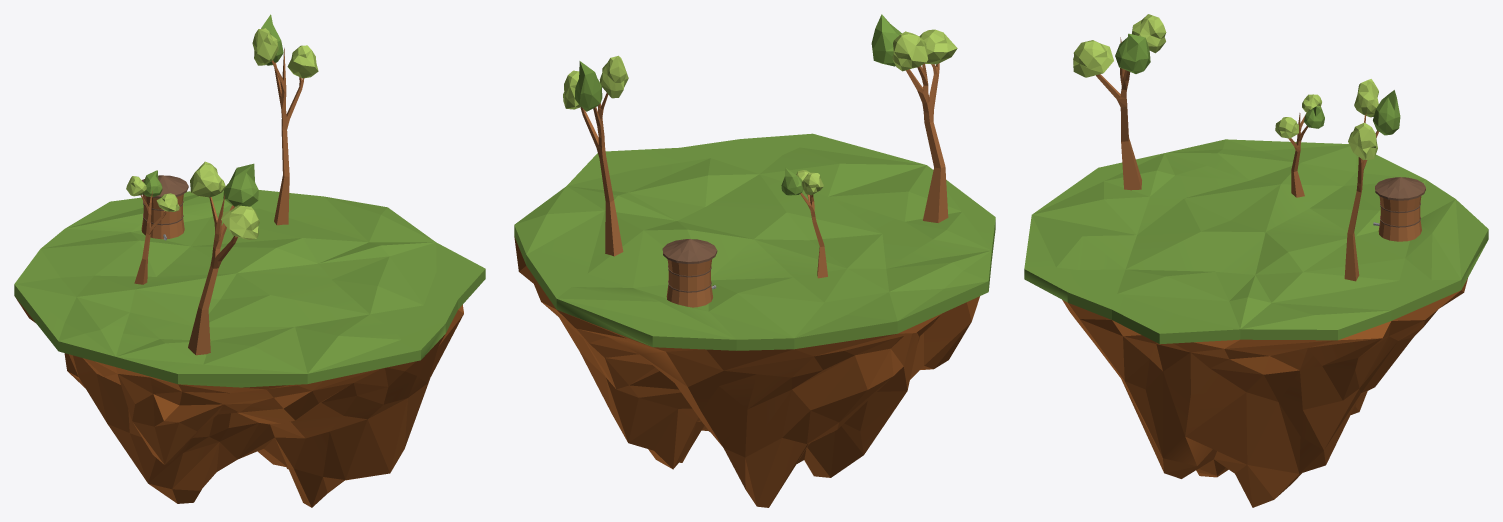
Rendered from Island.glb.
3 renders of one model, left to right at view 1: azimuth 30°, elevation 25°; view 2: azimuth 150°, elevation 25°; view 3: azimuth 270°, elevation 25°, orthographic. The views are drawn at different scales.
Parts seen in each view (by area): view 1: Base, Tree_4, Tree_4__1_, Water_Tank, Tree_4__2_; view 2: Base, Tree_4, Tree_4__1_, Water_Tank, Tree_4__2_; view 3: Base, Tree_4, Tree_4__1_, Water_Tank, Tree_4__2_.
Boxes of the visible parts, bbox=[...] form: Base: bbox=[14, 190, 485, 507]; Tree_4: bbox=[188, 161, 259, 355]; Tree_4__1_: bbox=[252, 14, 318, 225]; Water_Tank: bbox=[141, 175, 188, 240]; Tree_4__2_: bbox=[126, 170, 179, 284]; Base: bbox=[514, 133, 995, 507]; Tree_4: bbox=[871, 14, 957, 222]; Tree_4__1_: bbox=[563, 55, 628, 256]; Water_Tank: bbox=[662, 239, 717, 307]; Tree_4__2_: bbox=[781, 168, 827, 278]; Base: bbox=[1024, 139, 1488, 507]; Tree_4: bbox=[1073, 14, 1166, 190]; Tree_4__1_: bbox=[1344, 79, 1400, 281]; Water_Tank: bbox=[1373, 177, 1425, 241]; Tree_4__2_: bbox=[1275, 94, 1324, 197].
Bounding box in the file's own units: 19 × 19.27 × 19.17.
1 material, 1 textured.
